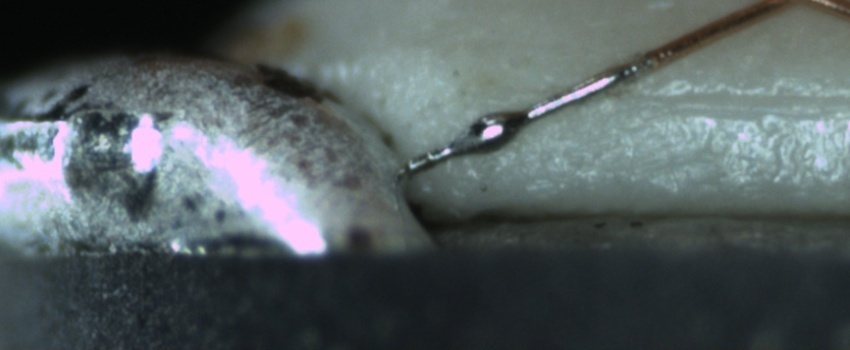CL: (751, 0, 840, 15)
DL: (582, 70, 849, 134)
TB: (453, 106, 529, 160)
TS: (405, 56, 652, 175)
TTCW: (398, 29, 703, 183)
